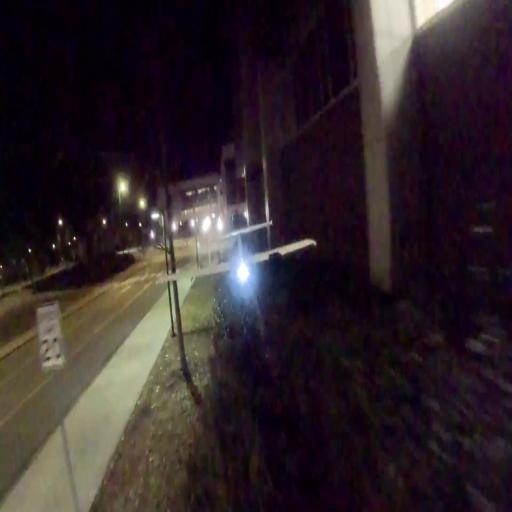uav: (154, 216, 318, 292)
